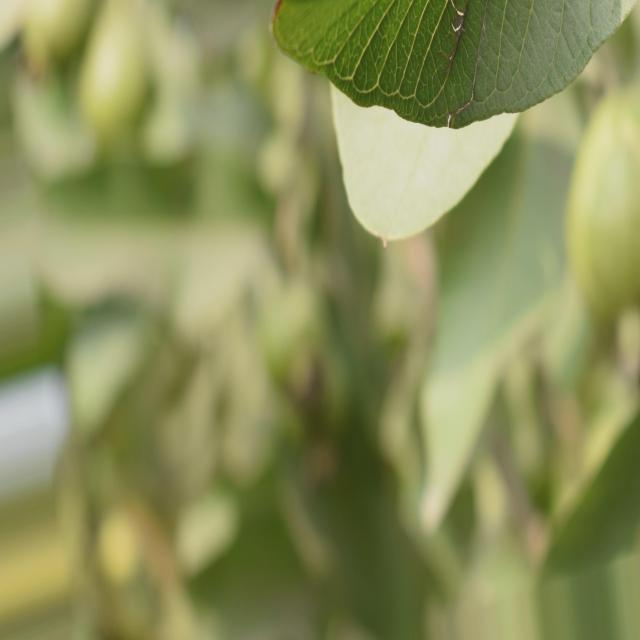Mummification: (272, 0, 631, 129)
